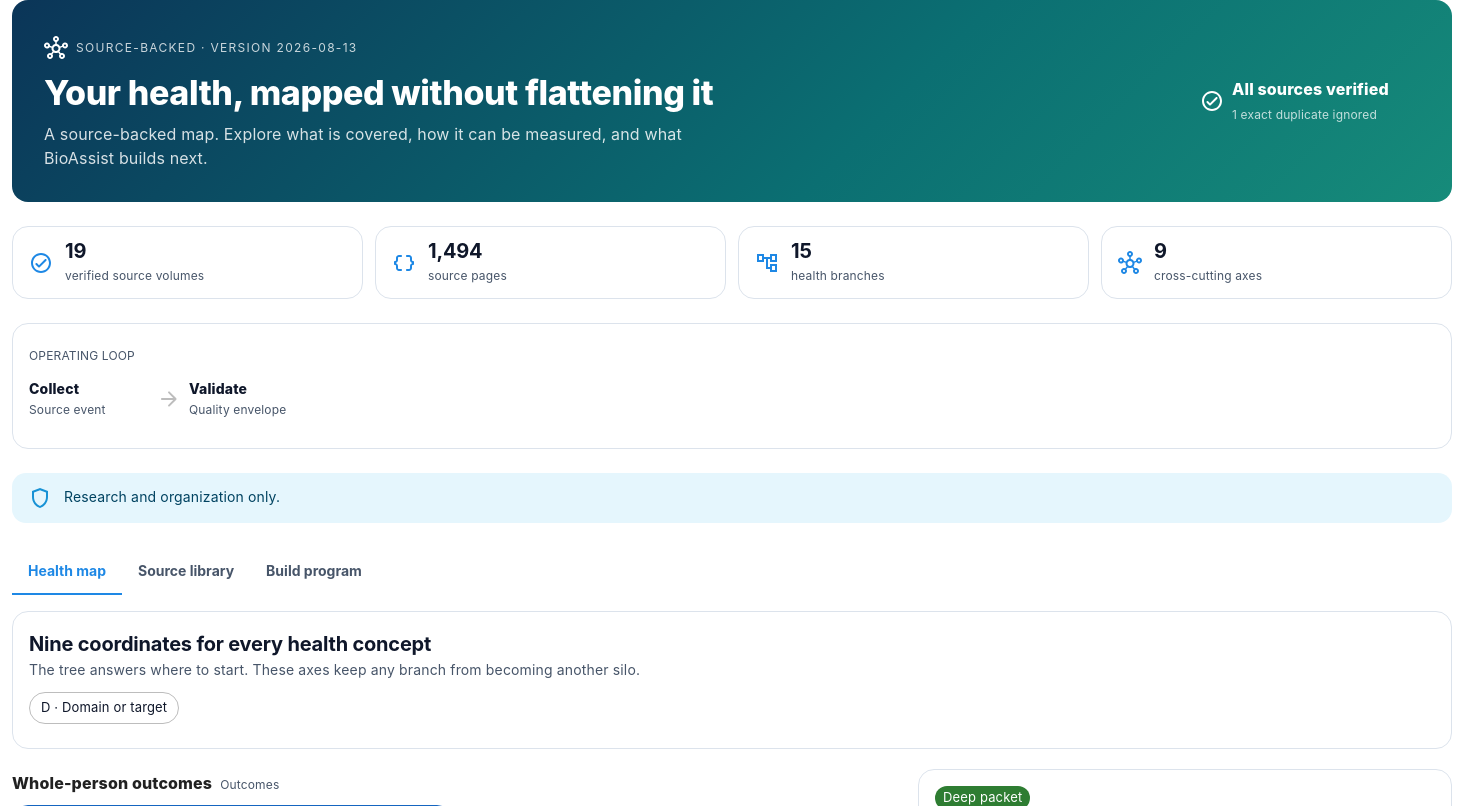
it: AtlasPage › filters sources and exposes the discovered skill suite
The image size is (1464, 806).
Check: the heading "Your health, mapped without flattening it" is shown, box [44,72,724,114]
Click the tab "Source library" at {"x": 186, "y": 571}, box [122,547,250,595]
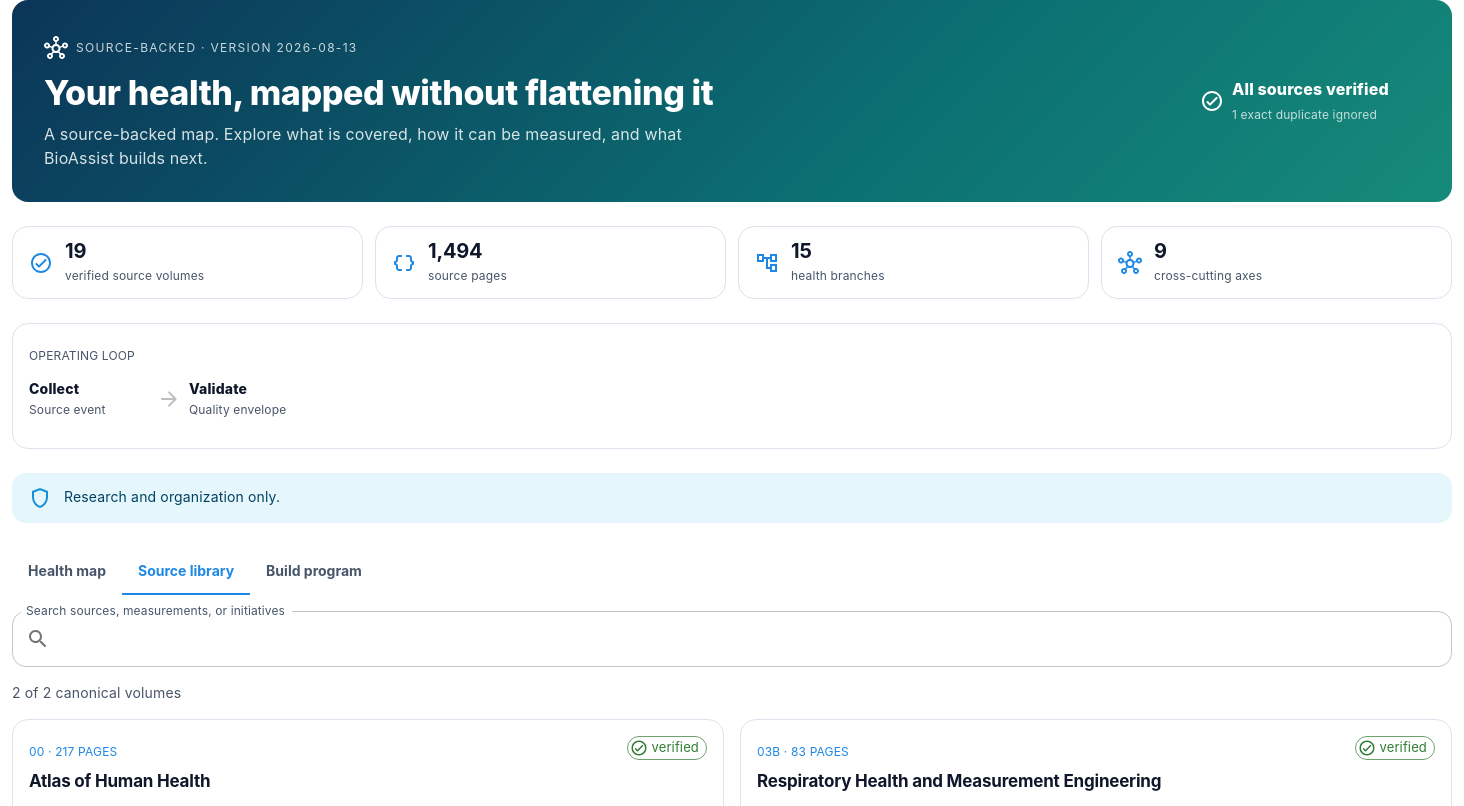
Type "spirometry" into the field labelled "Search sources, measurements, or initiatives" at {"x": 755, "y": 639}, box [58,611,1452,667]
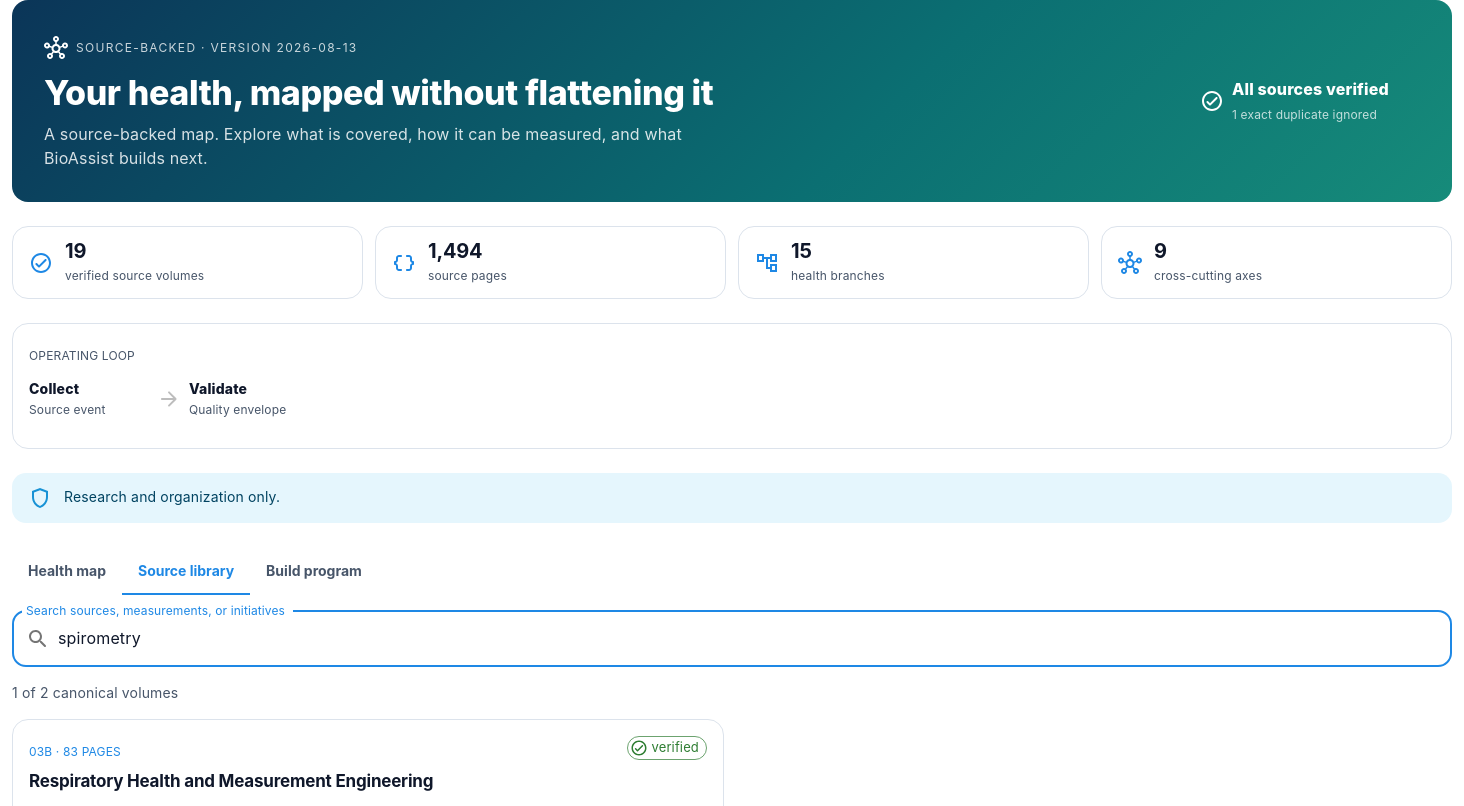
Check: the heading "Respiratory Health and Measurement Engineering" is shown, box [29,768,433,795]
Check: the heading "Atlas of Human Health" is gone
Click the tab "Build program" at {"x": 314, "y": 571}, box [250,547,378,595]
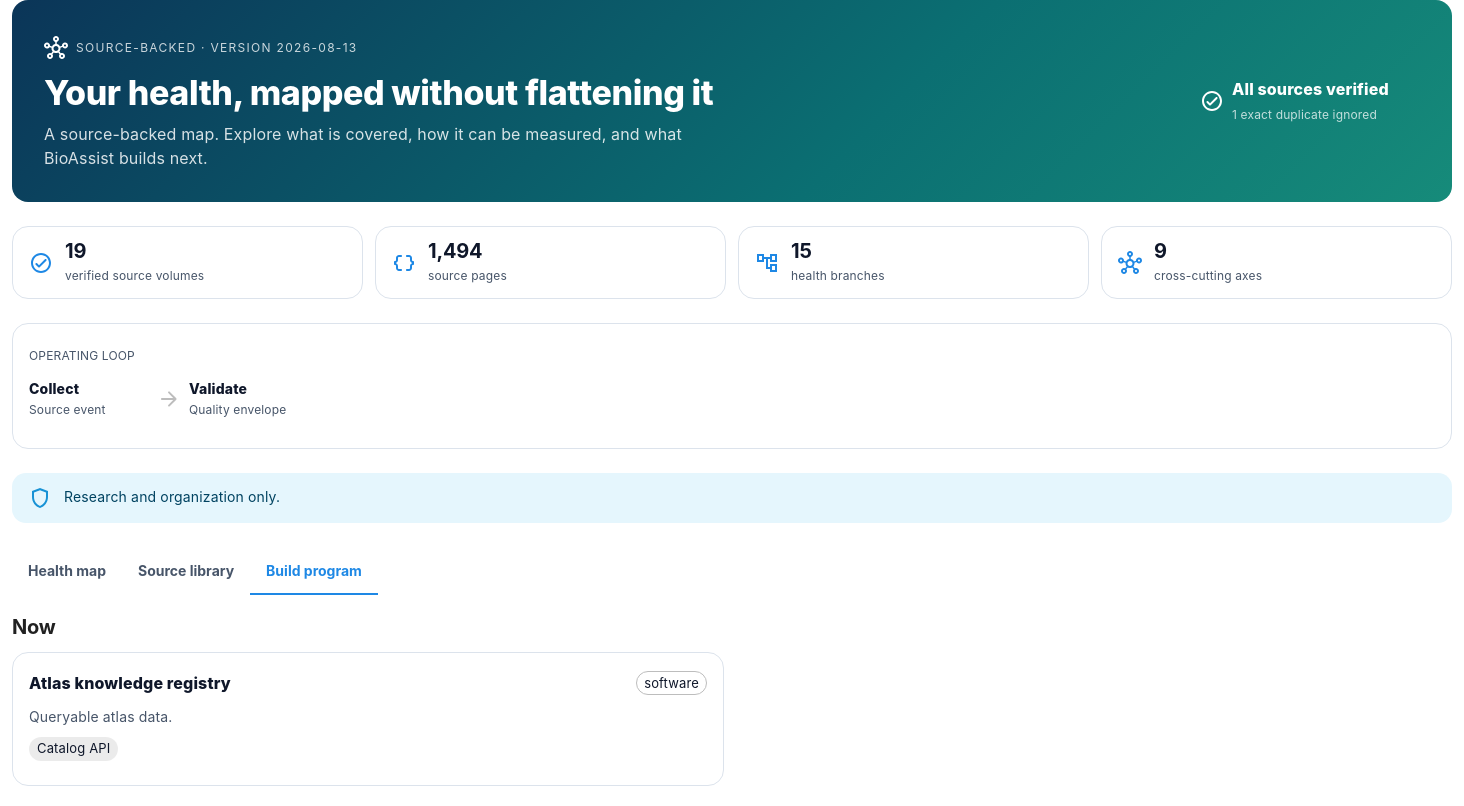
Check: the heading "Atlas knowledge registry" is shown, box [29,670,231,698]
